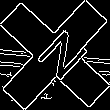N_SW: (23, 23, 87, 87)
